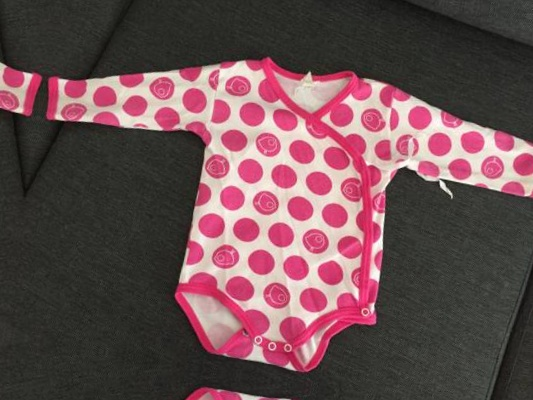Body: (13, 1, 533, 400), (0, 352, 507, 400), (0, 0, 49, 316), (527, 91, 533, 400)
